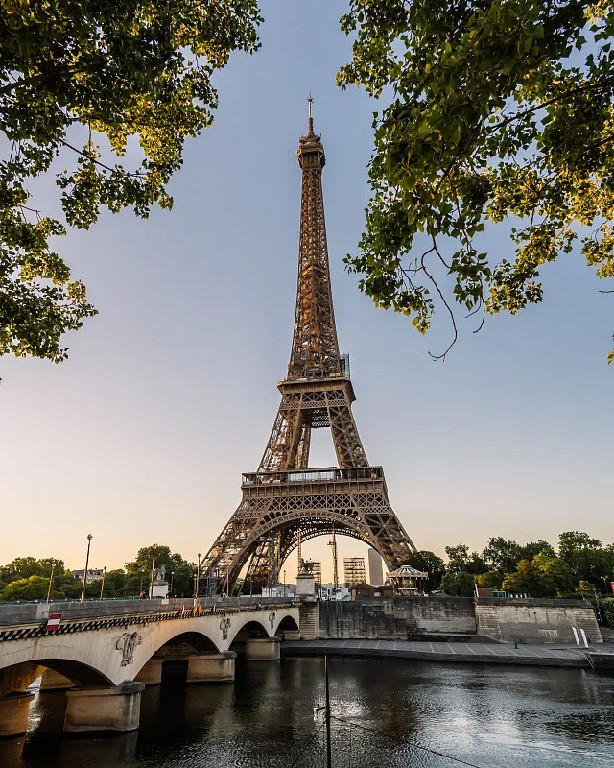Eiffel: (194, 90, 438, 594)
